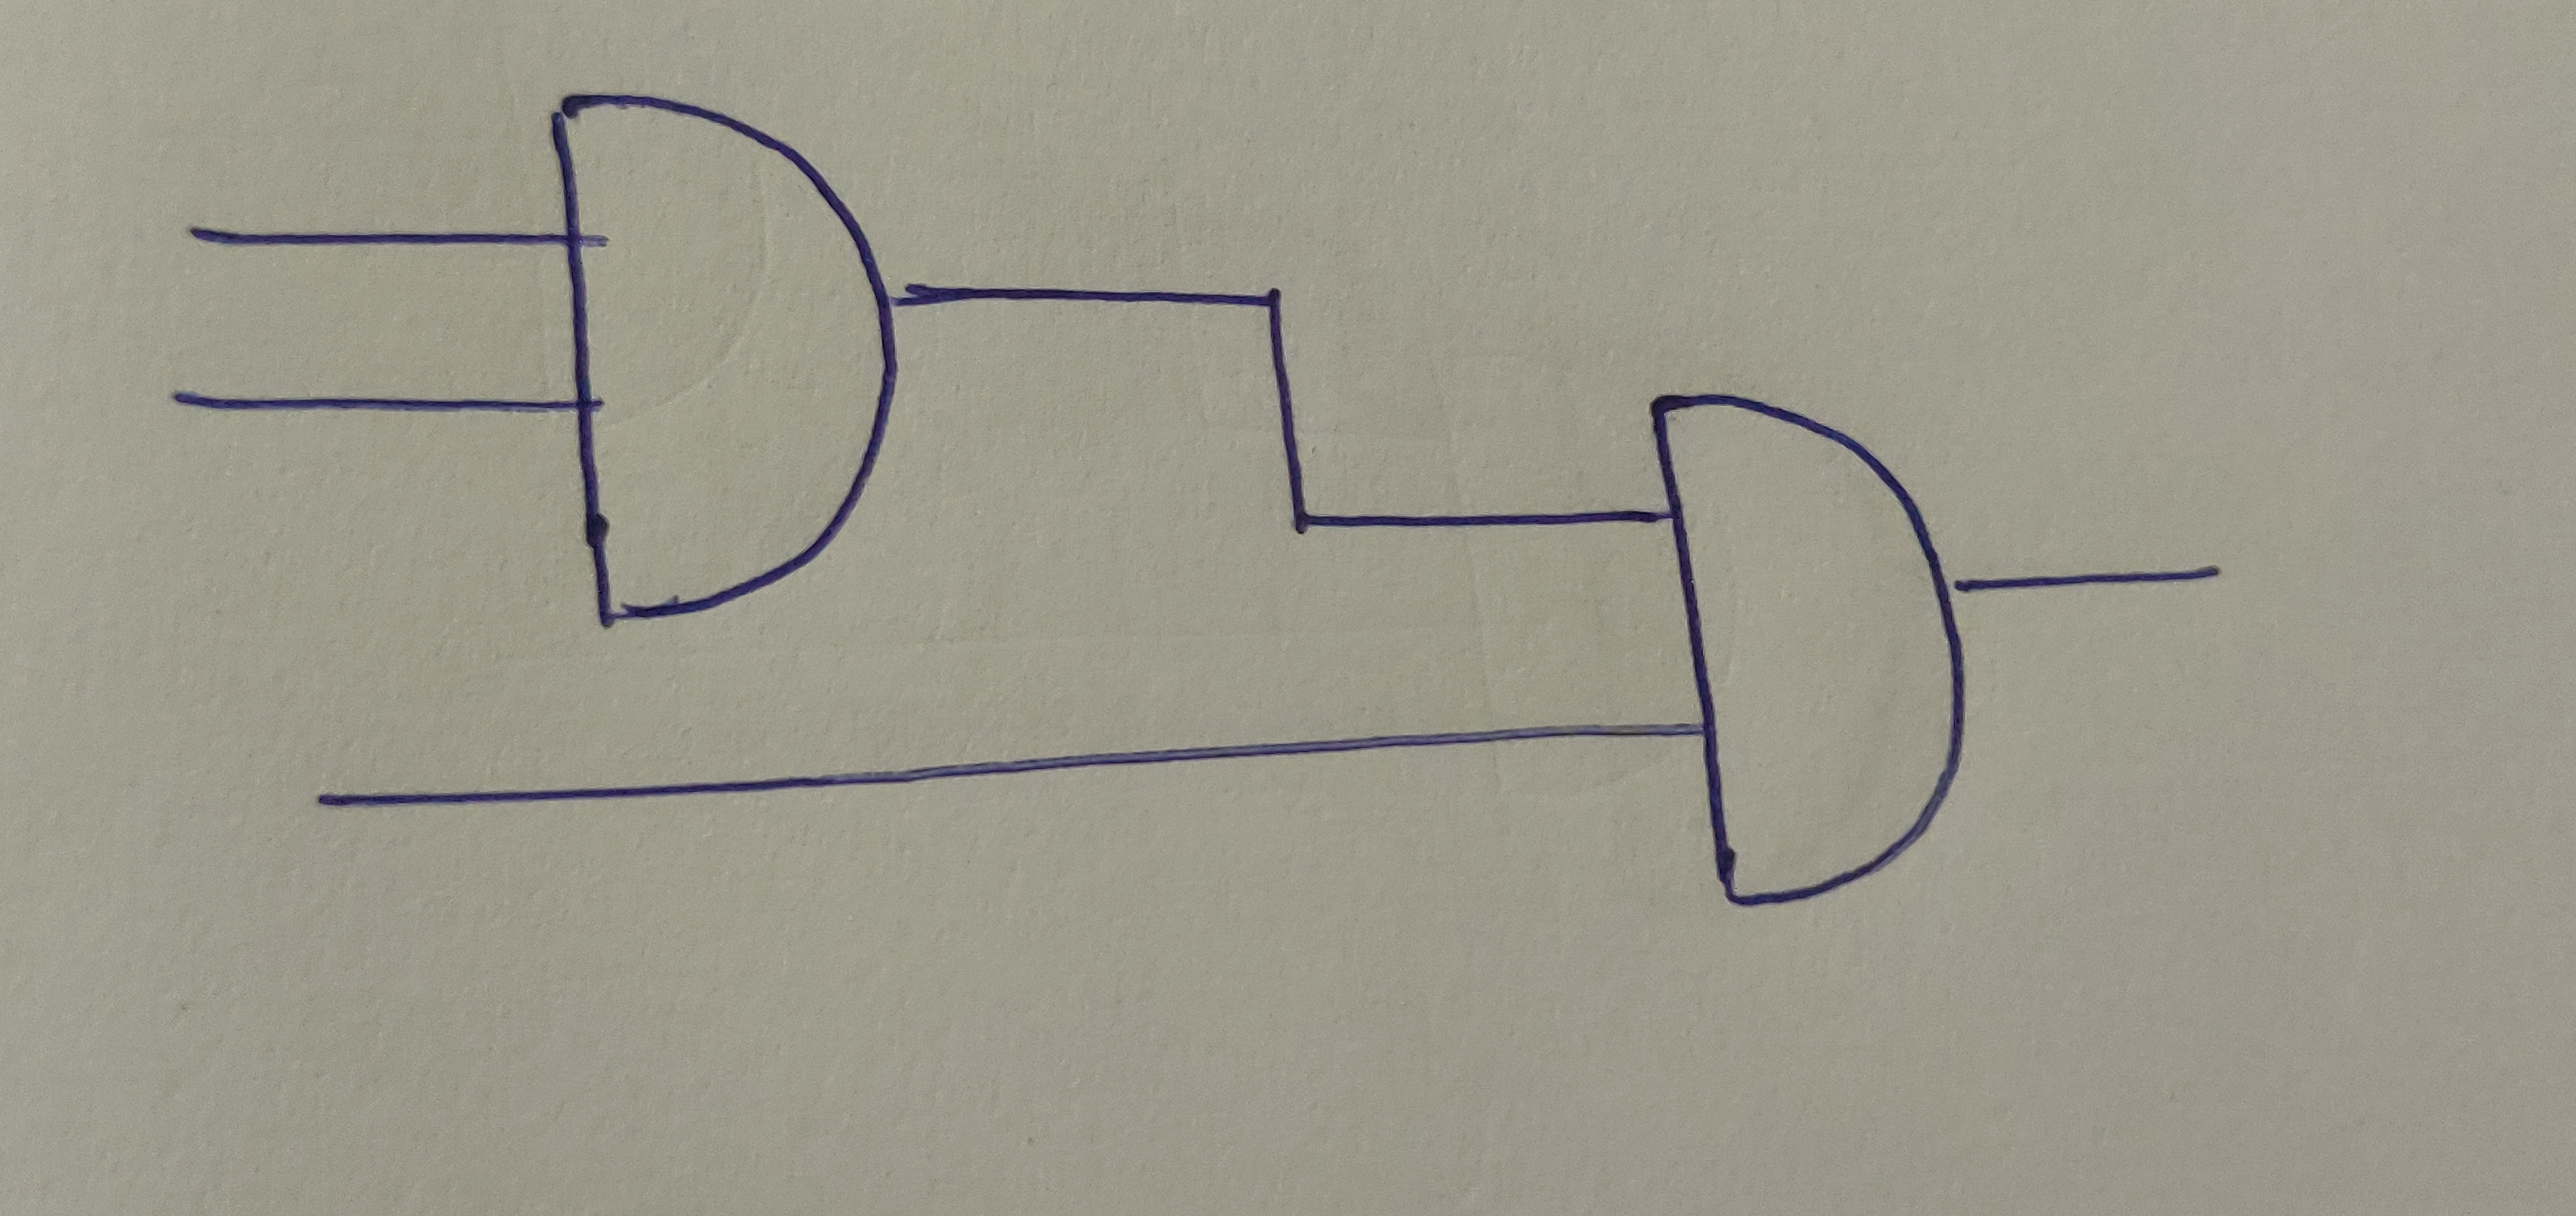and: (540, 90, 894, 624), (1643, 389, 1973, 904)
